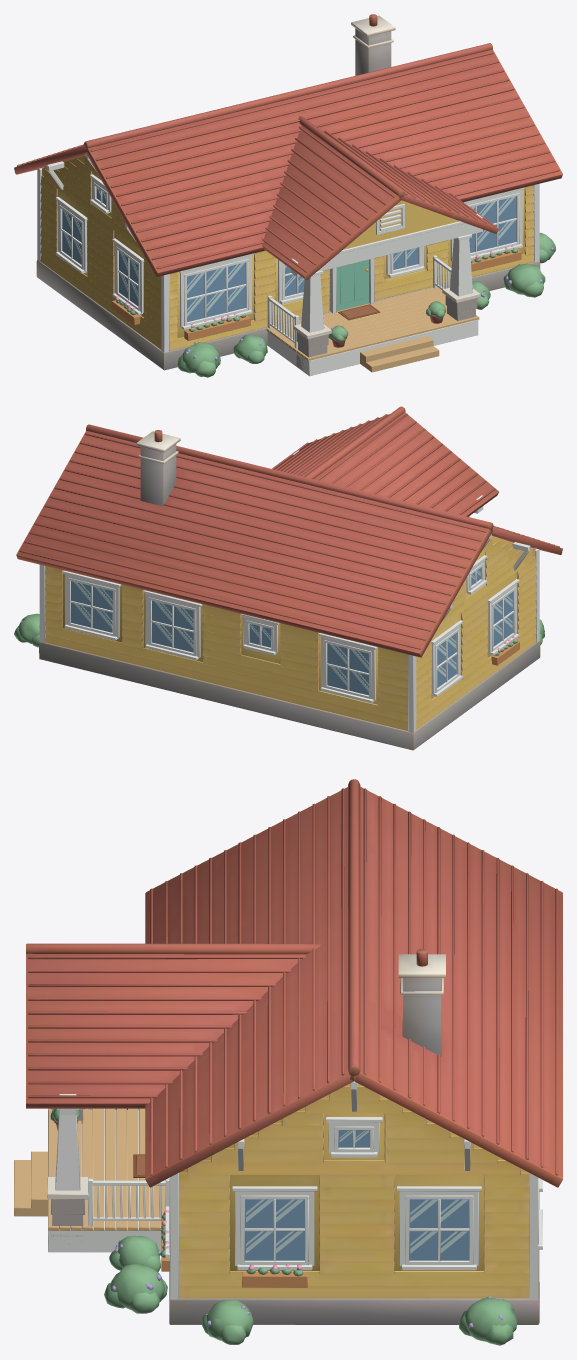
File: bungalow-297a5b38.glb
The picture shows the model from 3 angles, top to bottom: view 1: azimuth 30°, elevation 25°; view 2: azimuth 150°, elevation 25°; view 3: azimuth 270°, elevation 25°; orthographic projection. The views are drawn at different scales.
Parts seen in each view (by area): view 1: bungalow_body, bungalow_details; view 2: bungalow_body, bungalow_details; view 3: bungalow_body, bungalow_details.
Part boxes in pixels (x1,y1,x2,y2): bungalow_body: [14, 14, 562, 370]; bungalow_details: [37, 153, 555, 377]; bungalow_body: [16, 406, 562, 750]; bungalow_details: [14, 450, 544, 732]; bungalow_body: [26, 779, 562, 1324]; bungalow_details: [14, 1081, 542, 1345].
Size of the model in its own units: 12.65 by 6.19 by 9.68.
Materials: 2 (2 with a texture image).
